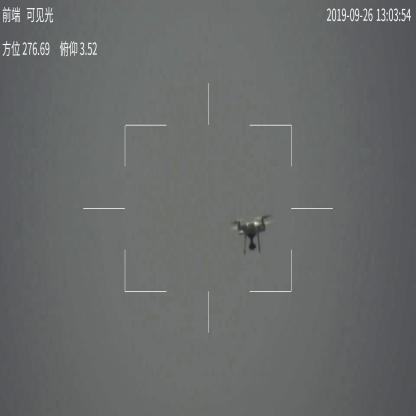uav: (226, 213, 272, 257)
